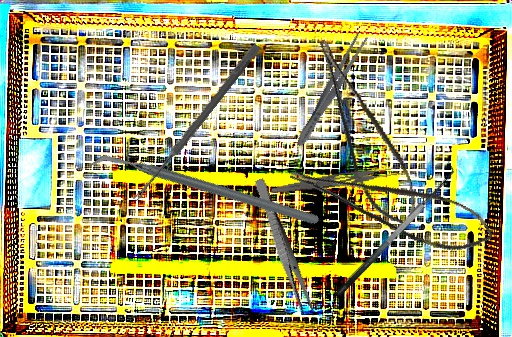Chopper: (86, 79, 322, 302)
Dressing Forceps: (292, 30, 370, 150), (250, 177, 316, 316), (269, 162, 405, 200)
Micro Scissor: (286, 133, 500, 270), (312, 27, 427, 238)
Spatula Surgical: (323, 158, 464, 300)
Surgical Spoon: (131, 42, 262, 204)
